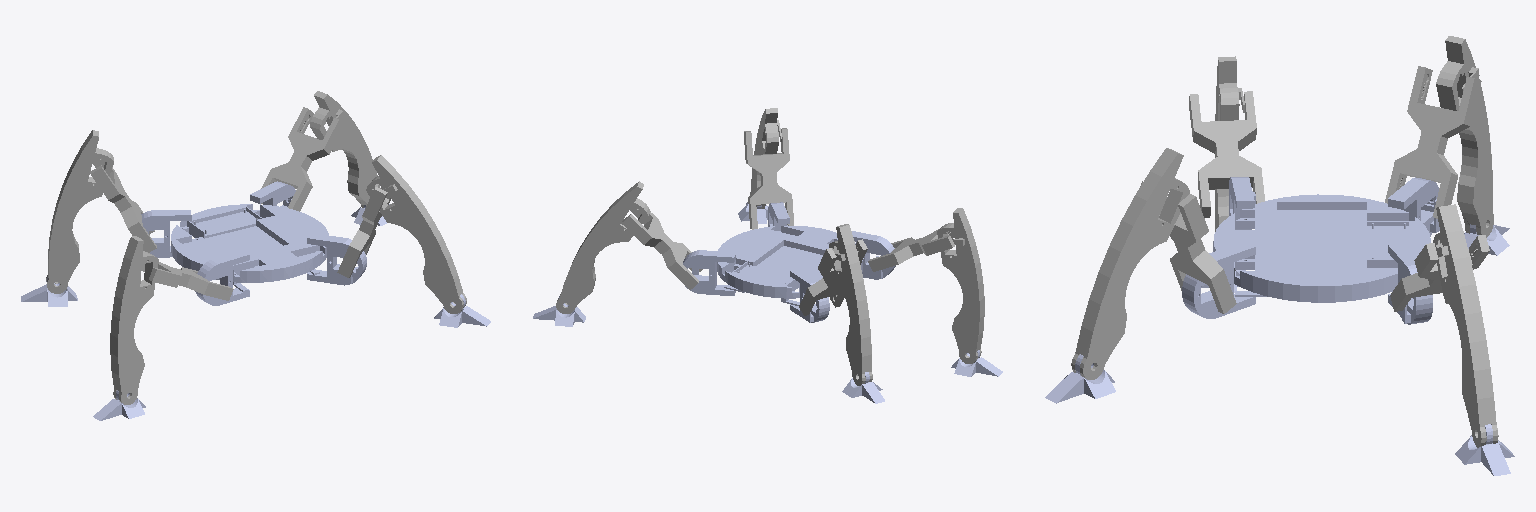
URDF robot description (FullAssemV2_URDF_5):
<?xml version="1.0" encoding="utf-8"?>
<!-- This URDF was automatically created by SolidWorks to URDF Exporter! Originally created by [author] ([email redacted]) 
     Commit Version: 1.5.1-0-g916b5db  Build Version: 1.5.7152.31018
     For more information, please see http://wiki.ros.org/sw_urdf_exporter -->
<robot
  name="FullAssemV2_URDF_5">
  <link
    name="Base_Link">
    <inertial>
      <origin
        xyz="-0.00017976 0.0064014 0.0017348"
        rpy="0 0 0" />
      <mass
        value="0.21236" />
      <inertia
        ixx="0.00026919"
        ixy="-2.9034E-06"
        ixz="9.9958E-07"
        iyy="0.00055913"
        iyz="-1.8533E-06"
        izz="0.00029537" />
    </inertial>
    <visual>
      <origin
        xyz="0 0 0"
        rpy="0 0 0" />
      <geometry>
        <mesh
          filename="package://FullAssemV2_URDF_5/meshes/Base_Link.STL" />
      </geometry>
      <material
        name="">
        <color
          rgba="0.79216 0.81961 0.93333 1" />
      </material>
    </visual>
    <collision>
      <origin
        xyz="0 0 0"
        rpy="0 0 0" />
      <geometry>
        <mesh
          filename="package://FullAssemV2_URDF_5/meshes/Base_Link.STL" />
      </geometry>
    </collision>
  </link>
  <link
    name="Hip1_Link">
    <inertial>
      <origin
        xyz="-0.016242 0.0041717 3.2178E-05"
        rpy="0 0 0" />
      <mass
        value="0.026582" />
      <inertia
        ixx="4.1458E-06"
        ixy="1.5113E-08"
        ixz="-6.9539E-08"
        iyy="4.1152E-06"
        iyz="-2.6721E-08"
        izz="7.509E-06" />
    </inertial>
    <visual>
      <origin
        xyz="0 0 0"
        rpy="0 0 0" />
      <geometry>
        <mesh
          filename="package://FullAssemV2_URDF_5/meshes/Hip1_Link.STL" />
      </geometry>
      <material
        name="">
        <color
          rgba="0.79216 0.81961 0.93333 1" />
      </material>
    </visual>
    <collision>
      <origin
        xyz="0 0 0"
        rpy="0 0 0" />
      <geometry>
        <mesh
          filename="package://FullAssemV2_URDF_5/meshes/Hip1_Link.STL" />
      </geometry>
    </collision>
  </link>
  <joint
    name="Hip1_Joint"
    type="continuous">
    <origin
      xyz="-0.039065 -0.053882 0"
      rpy="1.5708 0 0.098815" />
    <parent
      link="Base_Link" />
    <child
      link="Hip1_Link" />
    <axis
      xyz="0 1 0" />
  </joint>
  <link
    name="Thigh1_Link">
    <inertial>
      <origin
        xyz="-0.067227 0.0043758 -0.019422"
        rpy="0 0 0" />
      <mass
        value="0.036775" />
      <inertia
        ixx="8.9926E-06"
        ixy="1.3107E-08"
        ixz="-6.6682E-06"
        iyy="1.7963E-05"
        iyz="2.1557E-10"
        izz="1.9338E-05" />
    </inertial>
    <visual>
      <origin
        xyz="0 0 0"
        rpy="0 0 0" />
      <geometry>
        <mesh
          filename="package://FullAssemV2_URDF_5/meshes/Thigh1_Link.STL" />
      </geometry>
      <material
        name="">
        <color
          rgba="0.75294 0.75294 0.75294 1" />
      </material>
    </visual>
    <collision>
      <origin
        xyz="0 0 0"
        rpy="0 0 0" />
      <geometry>
        <mesh
          filename="package://FullAssemV2_URDF_5/meshes/Thigh1_Link.STL" />
      </geometry>
    </collision>
  </link>
  <joint
    name="Thigh1_Joint"
    type="continuous">
    <origin
      xyz="0 0 0"
      rpy="1.5708 0 0" />
    <parent
      link="Hip1_Link" />
    <child
      link="Thigh1_Link" />
    <axis
      xyz="0 0 1" />
  </joint>
  <link
    name="Shin1_Link">
    <inertial>
      <origin
        xyz="0.089293 0.00052424 0.12407"
        rpy="0 0 0" />
      <mass
        value="0.057893" />
      <inertia
        ixx="5.1911E-06"
        ixy="-1.6884E-07"
        ixz="-2.1135E-06"
        iyy="9.8478E-05"
        iyz="-1.0817E-08"
        izz="9.4822E-05" />
    </inertial>
    <visual>
      <origin
        xyz="0 0 0"
        rpy="0 0 0" />
      <geometry>
        <mesh
          filename="package://FullAssemV2_URDF_5/meshes/Shin1_Link.STL" />
      </geometry>
      <material
        name="">
        <color
          rgba="0.75294 0.75294 0.75294 1" />
      </material>
    </visual>
    <collision>
      <origin
        xyz="0 0 0"
        rpy="0 0 0" />
      <geometry>
        <mesh
          filename="package://FullAssemV2_URDF_5/meshes/Shin1_Link.STL" />
      </geometry>
    </collision>
  </link>
  <joint
    name="Shin1_Joint"
    type="continuous">
    <origin
      xyz="0 0 -0.078226"
      rpy="3.1416 -1.4823 -3.1416" />
    <parent
      link="Thigh1_Link" />
    <child
      link="Shin1_Link" />
    <axis
      xyz="0.99609 0 -0.088356" />
  </joint>
  <link
    name="Foot1_Link">
    <inertial>
      <origin
        xyz="-0.02178 0.14158 0.00015875"
        rpy="0 0 0" />
      <mass
        value="0.0091406" />
      <inertia
        ixx="1.4339E-06"
        ixy="6.6635E-08"
        ixz="1.9162E-14"
        iyy="7.4197E-07"
        iyz="-1.2833E-13"
        izz="1.335E-06" />
    </inertial>
    <visual>
      <origin
        xyz="0 0 0"
        rpy="0 0 0" />
      <geometry>
        <mesh
          filename="package://FullAssemV2_URDF_5/meshes/Foot1_Link.STL" />
      </geometry>
      <material
        name="">
        <color
          rgba="0.79216 0.81961 0.93333 1" />
      </material>
    </visual>
    <collision>
      <origin
        xyz="0 0 0"
        rpy="0 0 0" />
      <geometry>
        <mesh
          filename="package://FullAssemV2_URDF_5/meshes/Foot1_Link.STL" />
      </geometry>
    </collision>
  </link>
  <joint
    name="Foot1_Joint"
    type="continuous">
    <origin
      xyz="0.15134 0 -0.013424"
      rpy="1.5708 -0.088471 3.1416" />
    <parent
      link="Shin1_Link" />
    <child
      link="Foot1_Link" />
    <axis
      xyz="1 0 0" />
  </joint>
  <link
    name="Hip2_Link">
    <inertial>
      <origin
        xyz="-0.0168088349472356 0.00417173894349392 -0.00137707456095665"
        rpy="0 0 0" />
      <mass
        value="0.0265823680727401" />
      <inertia
        ixx="4.32105594114124E-06"
        ixy="1.07357436069011E-08"
        ixz="1.13207676517939E-07"
        iyy="4.11519799393497E-06"
        iyz="-3.75968550275868E-08"
        izz="7.33373551277234E-06" />
    </inertial>
    <visual>
      <origin
        xyz="0 0 0"
        rpy="0 0 0" />
      <geometry>
        <mesh
          filename="package://FullAssemV2_URDF_5/meshes/Hip2_Link.STL" />
      </geometry>
      <material
        name="">
        <color
          rgba="0.792156862745098 0.819607843137255 0.933333333333333 1" />
      </material>
    </visual>
    <collision>
      <origin
        xyz="0 0 0"
        rpy="0 0 0" />
      <geometry>
        <mesh
          filename="package://FullAssemV2_URDF_5/meshes/Hip2_Link.STL" />
      </geometry>
    </collision>
  </link>
  <joint
    name="Hip2_Joint"
    type="continuous">
    <origin
      xyz="0.039065 -0.053882 0"
      rpy="1.5708 0 2.2782" />
    <parent
      link="Base_Link" />
    <child
      link="Hip2_Link" />
    <axis
      xyz="0 1 0" />
  </joint>
  <link
    name="Thigh2_Link">
    <inertial>
      <origin
        xyz="-0.050001 0.0043758 -0.039164"
        rpy="0 0 0" />
      <mass
        value="0.036775" />
      <inertia
        ixx="2.0073E-05"
        ixy="1.2849E-08"
        ixz="-5.7357E-06"
        iyy="1.7963E-05"
        iyz="4.5342E-10"
        izz="8.2574E-06" />
    </inertial>
    <visual>
      <origin
        xyz="0 0 0"
        rpy="0 0 0" />
      <geometry>
        <mesh
          filename="package://FullAssemV2_URDF_5/meshes/Thigh2_Link.STL" />
      </geometry>
      <material
        name="">
        <color
          rgba="0.75294 0.75294 0.75294 1" />
      </material>
    </visual>
    <collision>
      <origin
        xyz="0 0 0"
        rpy="0 0 0" />
      <geometry>
        <mesh
          filename="package://FullAssemV2_URDF_5/meshes/Thigh2_Link.STL" />
      </geometry>
    </collision>
  </link>
  <joint
    name="Thigh2_Joint"
    type="continuous">
    <origin
      xyz="0 -0.0039047 0"
      rpy="1.5708 0 0" />
    <parent
      link="Hip2_Link" />
    <child
      link="Thigh2_Link" />
    <axis
      xyz="0 0 1" />
  </joint>
  <link
    name="Shin2_Link">
    <inertial>
      <origin
        xyz="-0.027473 0.00052424 0.13428"
        rpy="0 0 0" />
      <mass
        value="0.057893" />
      <inertia
        ixx="5.1898E-06"
        ixy="-1.6896E-07"
        ixz="-2.1127E-06"
        iyy="9.8478E-05"
        iyz="-1.0889E-08"
        izz="9.4823E-05" />
    </inertial>
    <visual>
      <origin
        xyz="0 0 0"
        rpy="0 0 0" />
      <geometry>
        <mesh
          filename="package://FullAssemV2_URDF_5/meshes/Shin2_Link.STL" />
      </geometry>
      <material
        name="">
        <color
          rgba="0.75294 0.75294 0.75294 1" />
      </material>
    </visual>
    <collision>
      <origin
        xyz="0 0 0"
        rpy="0 0 0" />
      <geometry>
        <mesh
          filename="package://FullAssemV2_URDF_5/meshes/Shin2_Link.STL" />
      </geometry>
    </collision>
  </link>
  <joint
    name="Shin2_Joint"
    type="continuous">
    <origin
      xyz="0 0 0.034507"
      rpy="-3.1416 -1.0466 3.1416" />
    <parent
      link="Thigh2_Link" />
    <child
      link="Shin2_Link" />
    <axis
      xyz="0.86575 0 -0.50048" />
  </joint>
  <link
    name="Foot2_Link">
    <inertial>
      <origin
        xyz="0.0061601 0.14743 0.00015875"
        rpy="0 0 0" />
      <mass
        value="0.0091406" />
      <inertia
        ixx="1.4339E-06"
        ixy="6.6635E-08"
        ixz="9.0873E-14"
        iyy="7.4197E-07"
        iyz="-1.1846E-13"
        izz="1.335E-06" />
    </inertial>
    <visual>
      <origin
        xyz="0 0 0"
        rpy="0 0 0" />
      <geometry>
        <mesh
          filename="package://FullAssemV2_URDF_5/meshes/Foot2_Link.STL" />
      </geometry>
      <material
        name="">
        <color
          rgba="0.79216 0.81961 0.93333 1" />
      </material>
    </visual>
    <collision>
      <origin
        xyz="0 0 0"
        rpy="0 0 0" />
      <geometry>
        <mesh
          filename="package://FullAssemV2_URDF_5/meshes/Foot2_Link.STL" />
      </geometry>
    </collision>
  </link>
  <joint
    name="Foot2_Joint"
    type="continuous">
    <origin
      xyz="0 0 0"
      rpy="1.5708 -0.52416 3.1416" />
    <parent
      link="Shin2_Link" />
    <child
      link="Foot2_Link" />
    <axis
      xyz="1 0 0" />
  </joint>
  <link
    name="Hip3_Link">
    <inertial>
      <origin
        xyz="-0.017301 0.0041717 -0.0016669"
        rpy="0 0 0" />
      <mass
        value="0.026582" />
      <inertia
        ixx="4.4135E-06"
        ixy="6.9398E-09"
        ixz="6.2015E-08"
        iyy="4.1152E-06"
        iyz="-3.9832E-08"
        izz="7.2413E-06" />
    </inertial>
    <visual>
      <origin
        xyz="0 0 0"
        rpy="0 0 0" />
      <geometry>
        <mesh
          filename="package://FullAssemV2_URDF_5/meshes/Hip3_Link.STL" />
      </geometry>
      <material
        name="">
        <color
          rgba="0.79216 0.81961 0.93333 1" />
      </material>
    </visual>
    <collision>
      <origin
        xyz="0 0 0"
        rpy="0 0 0" />
      <geometry>
        <mesh
          filename="package://FullAssemV2_URDF_5/meshes/Hip3_Link.STL" />
      </geometry>
    </collision>
  </link>
  <joint
    name="Hip3_Joint"
    type="continuous">
    <origin
      xyz="0.039433 0.05348 0"
      rpy="1.5708 0 -2.7838" />
    <parent
      link="Base_Link" />
    <child
      link="Hip3_Link" />
    <axis
      xyz="0 1 0" />
  </joint>
  <link
    name="Thigh3_Link">
    <inertial>
      <origin
        xyz="-0.0612239609855549 0.00437576587462801 -0.0323494324720045"
        rpy="0 0 0" />
      <mass
        value="0.0367745529376103" />
      <inertia
        ixx="1.38981865500654E-05"
        ixy="1.30171143038279E-08"
        ixz="-8.34485590299359E-06"
        iyy="1.79630760279727E-05"
        iyz="3.41655457767964E-10"
        izz="1.44326475579248E-05" />
    </inertial>
    <visual>
      <origin
        xyz="0 0 0"
        rpy="0 0 0" />
      <geometry>
        <mesh
          filename="package://FullAssemV2_URDF_5/meshes/Thigh3_Link.STL" />
      </geometry>
      <material
        name="">
        <color
          rgba="0.752941176470588 0.752941176470588 0.752941176470588 1" />
      </material>
    </visual>
    <collision>
      <origin
        xyz="0 0 0"
        rpy="0 0 0" />
      <geometry>
        <mesh
          filename="package://FullAssemV2_URDF_5/meshes/Thigh3_Link.STL" />
      </geometry>
    </collision>
  </link>
  <joint
    name="Thigh3_Joint"
    type="continuous">
    <origin
      xyz="0 -0.0045321 0"
      rpy="1.5708 0 0" />
    <parent
      link="Hip3_Link" />
    <child
      link="Thigh3_Link" />
    <axis
      xyz="0 0 1" />
  </joint>
  <link
    name="Shin3_Link">
    <inertial>
      <origin
        xyz="-0.0175952045775863 0.000524247468325245 0.161106031339758"
        rpy="0 0 0" />
      <mass
        value="0.0578934409785742" />
      <inertia
        ixx="5.19137301410598E-06"
        ixy="-1.6878639007982E-07"
        ixz="-2.11391529173156E-06"
        iyy="9.84784530543327E-05"
        iyz="-1.08004114327676E-08"
        izz="9.48219041859225E-05" />
    </inertial>
    <visual>
      <origin
        xyz="0 0 0"
        rpy="0 0 0" />
      <geometry>
        <mesh
          filename="package://FullAssemV2_URDF_5/meshes/Shin3_Link.STL" />
      </geometry>
      <material
        name="">
        <color
          rgba="0.752941176470588 0.752941176470588 0.752941176470588 1" />
      </material>
    </visual>
    <collision>
      <origin
        xyz="0 0 0"
        rpy="0 0 0" />
      <geometry>
        <mesh
          filename="package://FullAssemV2_URDF_5/meshes/Shin3_Link.STL" />
      </geometry>
    </collision>
  </link>
  <joint
    name="Shin3_Joint"
    type="continuous">
    <origin
      xyz="0 0 0.057206"
      rpy="-3.1416 -1.0615 3.1416" />
    <parent
      link="Thigh3_Link" />
    <child
      link="Shin3_Link" />
    <axis
      xyz="0.87309 0 -0.48756" />
  </joint>
  <link
    name="Foot3_Link">
    <inertial>
      <origin
        xyz="0.00846241800333659 0.175922063446431 0.000158745167351128"
        rpy="0 0 0" />
      <mass
        value="0.00914057903727103" />
      <inertia
        ixx="1.43388054325383E-06"
        ixy="6.6635469140512E-08"
        ixz="4.07491870110971E-13"
        iyy="7.41969110605252E-07"
        iyz="-1.34870054809463E-13"
        izz="1.33502935775728E-06" />
    </inertial>
    <visual>
      <origin
        xyz="0 0 0"
        rpy="0 0 0" />
      <geometry>
        <mesh
          filename="package://FullAssemV2_URDF_5/meshes/Foot3_Link.STL" />
      </geometry>
      <material
        name="">
        <color
          rgba="0.792156862745098 0.819607843137255 0.933333333333333 1" />
      </material>
    </visual>
    <collision>
      <origin
        xyz="0 0 0"
        rpy="0 0 0" />
      <geometry>
        <mesh
          filename="package://FullAssemV2_URDF_5/meshes/Foot3_Link.STL" />
      </geometry>
    </collision>
  </link>
  <joint
    name="Foot3_Joint"
    type="continuous">
    <origin
      xyz="0 0 0"
      rpy="1.5708 -0.5093 3.1416" />
    <parent
      link="Shin3_Link" />
    <child
      link="Foot3_Link" />
    <axis
      xyz="1 0 0" />
  </joint>
  <link
    name="Hip4_Link">
    <inertial>
      <origin
        xyz="-0.017128 0.0041717 0.0013316"
        rpy="0 0 0" />
      <mass
        value="0.026582" />
      <inertia
        ixx="4.3875E-06"
        ixy="8.2775E-09"
        ixz="-1.6431E-07"
        iyy="4.1152E-06"
        iyz="-1.6691E-08"
        izz="7.2673E-06" />
    </inertial>
    <visual>
      <origin
        xyz="0 0 0"
        rpy="0 0 0" />
      <geometry>
        <mesh
          filename="package://FullAssemV2_URDF_5/meshes/Hip4_Link.STL" />
      </geometry>
      <material
        name="">
        <color
          rgba="0.79216 0.81961 0.93333 1" />
      </material>
    </visual>
    <collision>
      <origin
        xyz="0 0 0"
        rpy="0 0 0" />
      <geometry>
        <mesh
          filename="package://FullAssemV2_URDF_5/meshes/Hip4_Link.STL" />
      </geometry>
    </collision>
  </link>
  <joint
    name="Hip4_Joint"
    type="continuous">
    <origin
      xyz="-0.039433 0.05348 0"
      rpy="1.5708 0 -0.47257" />
    <parent
      link="Base_Link" />
    <child
      link="Hip4_Link" />
    <axis
      xyz="0 1 0" />
  </joint>
  <link
    name="Thigh4_Link">
    <inertial>
      <origin
        xyz="-0.0550280640784157 0.00437576544852812 -0.0370937545567517"
        rpy="0 0 0" />
      <mass
        value="0.0367745517137066" />
      <inertia
        ixx="1.77900985436127E-05"
        ixy="1.29240260785636E-08"
        ixz="-7.44100518201298E-06"
        iyy="1.79630759603318E-05"
        iyz="4.15572472440211E-10"
        izz="1.05407354595972E-05" />
    </inertial>
    <visual>
      <origin
        xyz="0 0 0"
        rpy="0 0 0" />
      <geometry>
        <mesh
          filename="package://FullAssemV2_URDF_5/meshes/Thigh4_Link.STL" />
      </geometry>
      <material
        name="">
        <color
          rgba="0.752941176470588 0.752941176470588 0.752941176470588 1" />
      </material>
    </visual>
    <collision>
      <origin
        xyz="0 0 0"
        rpy="0 0 0" />
      <geometry>
        <mesh
          filename="package://FullAssemV2_URDF_5/meshes/Thigh4_Link.STL" />
      </geometry>
    </collision>
  </link>
  <joint
    name="Thigh4_Joint"
    type="continuous">
    <origin
      xyz="0 -0.0043546 0"
      rpy="1.5708 0 0" />
    <parent
      link="Hip4_Link" />
    <child
      link="Thigh4_Link" />
    <axis
      xyz="0 0 1" />
  </joint>
  <link
    name="Shin4_Link">
    <inertial>
      <origin
        xyz="-0.0698470767345568 0.000524244290808738 0.125150499091729"
        rpy="0 0 0" />
      <mass
        value="0.0578934415312602" />
      <inertia
        ixx="5.18920741368609E-06"
        ixy="-1.69002633765832E-07"
        ixz="-2.11267767624196E-06"
        iyy="9.8478453092661E-05"
        iyz="-1.09259565687732E-08"
        izz="9.48240698434656E-05" />
    </inertial>
    <visual>
      <origin
        xyz="0 0 0"
        rpy="0 0 0" />
      <geometry>
        <mesh
          filename="package://FullAssemV2_URDF_5/meshes/Shin4_Link.STL" />
      </geometry>
      <material
        name="">
        <color
          rgba="0.752941176470588 0.752941176470588 0.752941176470588 1" />
      </material>
    </visual>
    <collision>
      <origin
        xyz="0 0 0"
        rpy="0 0 0" />
      <geometry>
        <mesh
          filename="package://FullAssemV2_URDF_5/meshes/Shin4_Link.STL" />
      </geometry>
    </collision>
  </link>
  <joint
    name="Shin4_Joint"
    type="continuous">
    <origin
      xyz="0 0 0.054559"
      rpy="-3.1416 -1.3327 3.1416" />
    <parent
      link="Thigh4_Link" />
    <child
      link="Shin4_Link" />
    <axis
      xyz="0.9718 0 -0.23582" />
  </joint>
  <link
    name="Foot4_Link">
    <inertial>
      <origin
        xyz="0.00367629248162111 0.127708621914678 0.000158739633252084"
        rpy="0 0 0" />
      <mass
        value="0.00914057907848054" />
      <inertia
        ixx="1.43388047627197E-06"
        ixy="6.66354983920578E-08"
        ixz="-7.44155415330433E-13"
        iyy="7.41969046146568E-07"
        iyz="-1.09981926807042E-13"
        izz="1.33502934802945E-06" />
    </inertial>
    <visual>
      <origin
        xyz="0 0 0"
        rpy="0 0 0" />
      <geometry>
        <mesh
          filename="package://FullAssemV2_URDF_5/meshes/Foot4_Link.STL" />
      </geometry>
      <material
        name="">
        <color
          rgba="0.792156862745098 0.819607843137255 0.933333333333333 1" />
      </material>
    </visual>
    <collision>
      <origin
        xyz="0 0 0"
        rpy="0 0 0" />
      <geometry>
        <mesh
          filename="package://FullAssemV2_URDF_5/meshes/Foot4_Link.STL" />
      </geometry>
    </collision>
  </link>
  <joint
    name="Foot4_Joint"
    type="continuous">
    <origin
      xyz="0 0 0"
      rpy="1.5708 -0.23806 3.1416" />
    <parent
      link="Shin4_Link" />
    <child
      link="Foot4_Link" />
    <axis
      xyz="1 0 0" />
  </joint>
</robot>

--- Render facts (derived) ---
The picture shows the robot from 3 angles, left to right: view 1: azimuth 30°, elevation 25°; view 2: azimuth 150°, elevation 25°; view 3: azimuth 270°, elevation 25°; orthographic projection.
Model FullAssemV2_URDF_5 with 17 links and 16 joints (16 continuous), rooted at Base_Link, posed every joint at zero.
Visible links, largest first — view 1: Base_Link, Shin2_Link, Shin1_Link, Shin4_Link, Shin3_Link, Thigh3_Link, Thigh4_Link, Thigh2_Link, Hip2_Link, Thigh1_Link, Hip1_Link, Hip4_Link (+4 smaller); view 2: Base_Link, Shin1_Link, Shin3_Link, Shin4_Link, Thigh2_Link, Thigh3_Link, Thigh1_Link, Thigh4_Link, Hip3_Link, Shin2_Link, Hip1_Link, Hip4_Link (+3 smaller); view 3: Base_Link, Shin2_Link, Shin3_Link, Shin4_Link, Thigh4_Link, Thigh1_Link, Thigh2_Link, Thigh3_Link, Hip2_Link, Shin1_Link, Hip4_Link, Hip3_Link (+4 smaller).
Boxes of the visible links, box(x1,y1,x2,y2) form: Base_Link: box(171, 204, 328, 292); Shin2_Link: box(366, 155, 466, 313); Shin1_Link: box(110, 236, 158, 404); Shin4_Link: box(46, 130, 113, 293); Shin3_Link: box(310, 91, 380, 207); Thigh3_Link: box(261, 107, 344, 211); Thigh4_Link: box(90, 162, 156, 252); Thigh2_Link: box(337, 185, 390, 277); Hip2_Link: box(307, 233, 366, 285); Thigh1_Link: box(142, 262, 233, 300); Hip1_Link: box(195, 250, 249, 305); Hip4_Link: box(141, 210, 191, 257); Base_Link: box(717, 225, 862, 305); Shin1_Link: box(937, 208, 984, 363); Shin3_Link: box(556, 181, 650, 313); Shin4_Link: box(829, 224, 872, 385); Thigh2_Link: box(744, 128, 793, 229); Thigh3_Link: box(621, 209, 702, 289); Thigh1_Link: box(868, 229, 954, 271); Thigh4_Link: box(799, 239, 867, 315); Hip3_Link: box(683, 250, 735, 295); Shin2_Link: box(750, 108, 781, 208); Hip1_Link: box(852, 231, 895, 279); Hip4_Link: box(790, 268, 829, 322); Base_Link: box(1213, 194, 1430, 302); Shin2_Link: box(1071, 148, 1189, 379); Shin3_Link: box(1433, 204, 1498, 447); Shin4_Link: box(1436, 36, 1493, 237); Thigh4_Link: box(1385, 66, 1481, 218); Thigh1_Link: box(1189, 91, 1264, 217); Thigh2_Link: box(1159, 194, 1236, 313); Thigh3_Link: box(1390, 235, 1489, 311); Hip2_Link: box(1182, 241, 1255, 318); Shin1_Link: box(1215, 56, 1244, 270); Hip4_Link: box(1388, 177, 1439, 236); Hip3_Link: box(1388, 242, 1432, 324).
Size in the robot's own frame: 0.4488 by 0.3298 by 0.2223 metres.
Meshes: 17 distinct files referenced, 17 mesh visuals loaded (17 binary STL).